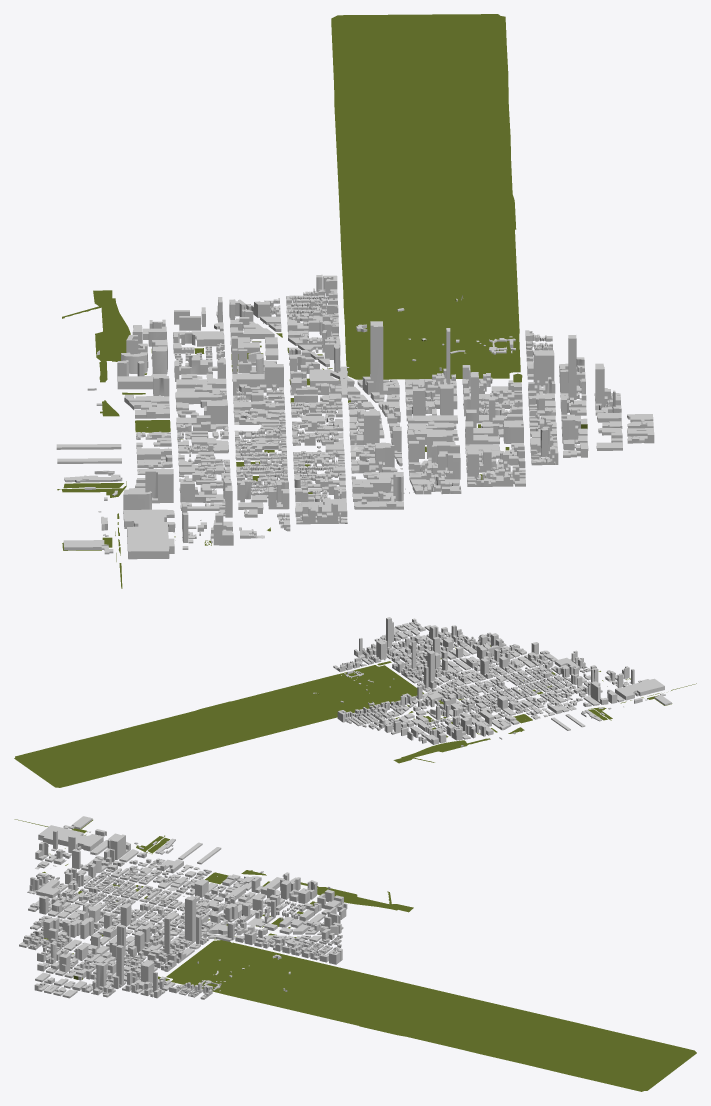
The model's file is area12_lod0-transformed.glb.
3 renders of one model, top to bottom at view 1: azimuth 30°, elevation 25°; view 2: azimuth 150°, elevation 25°; view 3: azimuth 270°, elevation 25°, orthographic. The views are drawn at different scales.
Visible parts, largest first — view 1: Areas:building.003, Areas:leisure.002; view 2: Areas:building.003, Areas:leisure.002; view 3: Areas:building.003, Areas:leisure.002.
Part boxes in pixels (left/top/right/bottom): Areas:building.003: left=56, top=274, right=654, bottom=559; Areas:leisure.002: left=57, top=14, right=587, bottom=588; Areas:building.003: left=313, top=617, right=671, bottom=746; Areas:leisure.002: left=14, top=645, right=696, bottom=787; Areas:building.003: left=19, top=816, right=347, bottom=999; Areas:leisure.002: left=14, top=819, right=696, bottom=1091.
Bounding box in the file's own units: 6390 × 472 × 6722.
